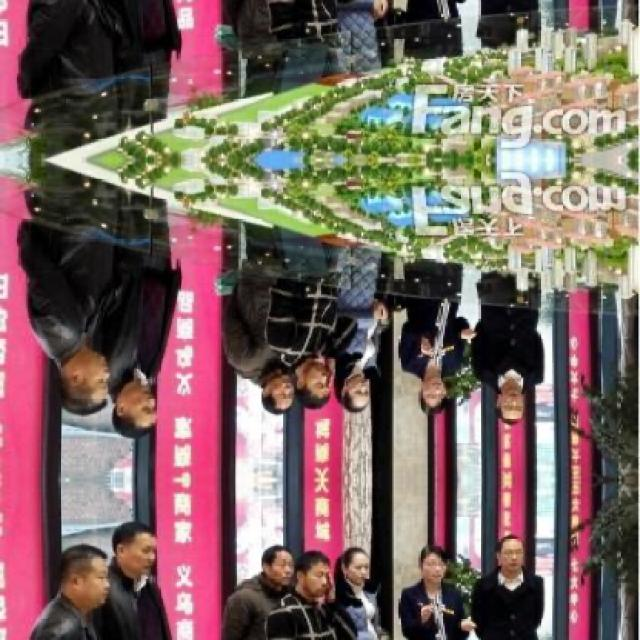sin casco: (39, 334, 117, 432), (462, 369, 545, 449), (89, 376, 166, 449), (228, 372, 310, 422), (414, 366, 464, 439), (285, 361, 329, 408), (335, 380, 371, 416)
